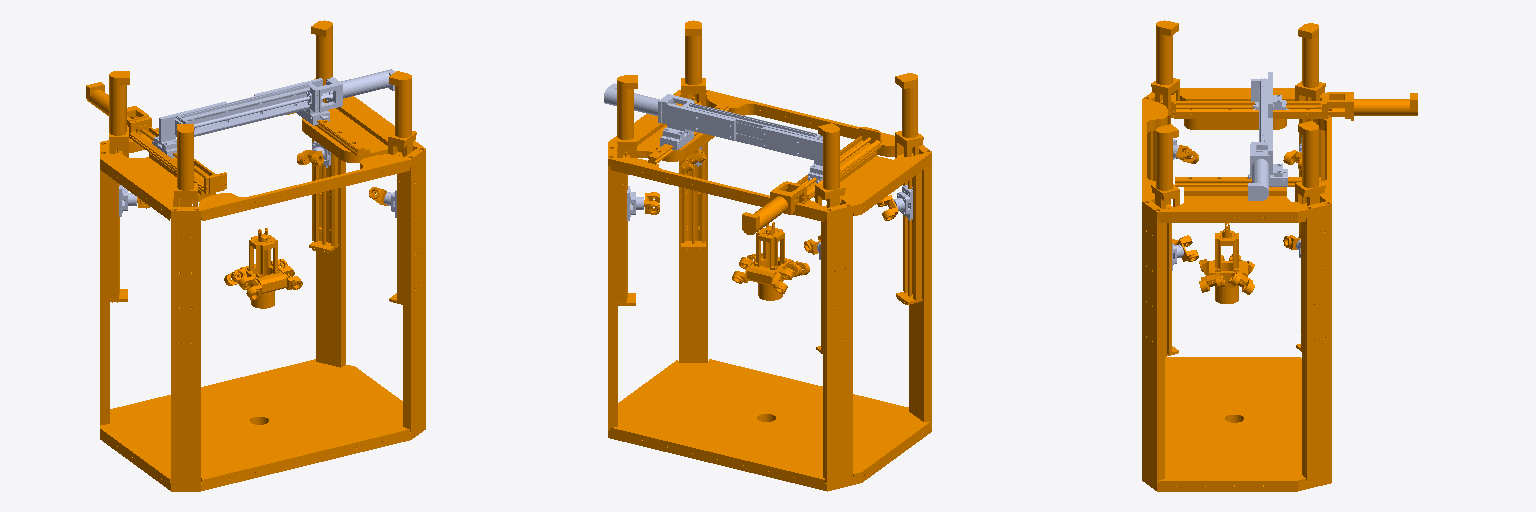
--- Facts derived from the render (not from the file) ---
The picture shows the robot from 3 angles, left to right: view 1: azimuth 30°, elevation 25°; view 2: azimuth 150°, elevation 25°; view 3: azimuth 270°, elevation 25°; orthographic projection.
Robot: Faraday — 28 links, 27 joints (2 fixed, 25 floating); root link world; default pose: all joints at 0.
Visible links, largest first — view 1: base_link, limb5_link1, move_platform; view 2: base_link, limb5_link1, move_platform; view 3: base_link, limb5_link1, move_platform.
Boxes of the visible links, <box> form: base_link: <box>86,20,425,491</box>; limb5_link1: <box>152,69,394,158</box>; move_platform: <box>240,228,286,308</box>; base_link: <box>608,20,931,491</box>; limb5_link1: <box>604,83,822,183</box>; move_platform: <box>747,222,793,300</box>; base_link: <box>1142,20,1417,491</box>; limb5_link1: <box>1248,72,1288,200</box>; move_platform: <box>1206,223,1247,303</box>.
Size in the robot's own frame: 0.6476 by 0.5666 by 0.8006 metres.
15 mesh visuals loaded from 12 distinct referenced files (6 binary STL); not drawn: 12 (reference not matched to a file when rendering).

The robot description file, URDF, robot "Faraday":
<robot
  name="Faraday">

  <link name="world" />

  <joint name="world_to_base_link" type="fixed">
    <parent link="world"/>
    <child link="base_link"/>
    <origin xyz="0 -0.01553 0.604" rpy="3.141592654 0 0"/>
  </joint>

  <link
    name="base_link">
    <inertial>
      <origin
        xyz="-0.0065986 -0.032962 0.49853"
        rpy="0 0 0" />
      <mass
        value="12.551" />
      <inertia
        ixx="5.8372"
        ixy="-0.020361"
        ixz="-0.034318"
        iyy="6.0197"
        iyz="0.0069877"
        izz="0.44893" />
    </inertial>
    <visual>
      <origin
        xyz="0 0 0"
        rpy="0 0 0" />
      <geometry>
        <mesh
          filename="package://faraday_support/meshes/base_link.STL" />
      </geometry>
      <material
        name="">
        <color
          rgba="1 0.6 0 1" />
      </material>
    </visual>
    <collision>
      <origin
        xyz="0 0 0"
        rpy="0 0 0" />
      <geometry>
        <mesh
          filename="package://faraday_support/meshes/base_link.STL" />
      </geometry>
    </collision>
  </link>


  
<!-- !!!!!!!!!!!!!!!!!!!!!!!!!!!!!!!!!!!!the limb1!!!!!!!!!!!!!!!!!!!!!!!!!!! -->
  <joint
    name="limb1_link1_joint"
    type="floating">
    <origin
      xyz="0.257 0.12829 0.087145"
      rpy="0 0 -2.0944" />
    <parent
      link="base_link" />
    <child
      link="limb1_link1" />
    <axis
      xyz="0 0 1" />
    <limit
      lower="-0.0456446"
      upper="0.1758554"
      effort="0"
      velocity="0" />
  </joint>

  <link
    name="limb1_link1">
    <inertial>
      <origin
        xyz="0.0075301 -2.5935E-05 9.6255E-05"
        rpy="0 0 0" />
      <mass
        value="0.047388" />
      <inertia
        ixx="2.2595E-10"
        ixy="-7.5456E-09"
        ixz="2.8004E-08"
        iyy="4.1578E-06"
        iyz="5.676E-11"
        izz="4.1576E-06" />
    </inertial>
    <visual>
      <origin
        xyz="0 0 0"
        rpy="0 0 0" />
      <geometry>
        <mesh
          filename="package://faraday_support/meshes/limb1_link1.STL" />
      </geometry>
      <material
        name="">
        <color
          rgba="0.79216 0.81961 0.93333 1" />
      </material>
    </visual>
    <collision>
      <origin
        xyz="0 0 0"
        rpy="0 0 0" />
      <geometry>
        <mesh
          filename="package://faraday_support/meshes/limb1_link1.STL" />
      </geometry>
    </collision>
  </link>

  <joint
    name="limb1_link2_joint"
    type="floating">
    <origin
      xyz="0.058 0 0"
      rpy="1.5708 -0.67413 1.5708" />
    <parent
      link="limb1_link1" />
    <child
      link="limb1_link2" />
    <axis
      xyz="0 0 1" />
  </joint>

  <link
    name="limb1_link2">
    <inertial>
      <origin
        xyz="5.5511E-17 1.6653E-16 -0.0083909"
        rpy="0 0 0" />
      <mass
        value="0.019958" />
      <inertia
        ixx="1.1484E-06"
        ixy="-6.4586E-21"
        ixz="4.2976E-21"
        iyy="3.054E-06"
        iyz="-4.0935E-21"
        izz="1.9056E-06" />
    </inertial>
    <visual>
      <origin
        xyz="0 0 0"
        rpy="0 0 0" />
      <geometry>
        <mesh
          filename="package://faraday_support/meshes/limb1_link2.STL" />
      </geometry>
      <material
        name="">
        <color
          rgba="1 0.6 0 1" />
      </material>
    </visual>
    <collision>
      <origin
        xyz="0 0 0"
        rpy="0 0 0" />
      <geometry>
        <mesh
          filename="package://faraday_support/meshes/limb1_link2.STL" />
      </geometry>
    </collision>
  </link>

  <joint
    name="limb1_link3_joint"
    type="floating">
    <origin
      xyz="0 0 0"
      rpy="-1.011 1.5812E-17 9.992E-16" />
    <parent
      link="limb1_link2" />
    <child
      link="limb1_link3" />
    <axis
      xyz="1 0 0" />
    <limit
      lower="-1.57"
      upper="1.57"
      effort="0"
      velocity="0" />
  </joint>

  <link
    name="limb1_link3">
    <inertial>
      <origin
        xyz="2.77555756156289E-16 2.35922392732846E-16 0.0897146998141934"
        rpy="0 0 0" />
      <mass
        value="0.016347199026062" />
      <inertia
        ixx="2.68392253477096E-05"
        ixy="-2.11758236813575E-21"
        ixz="-8.30627538597649E-20"
        iyy="2.68392253477097E-05"
        iyz="-7.35838744804189E-20"
        izz="-4.4505542700943E-22" />
    </inertial>
    <visual>
      <origin
        xyz="0 0 0"
        rpy="0 0 0" />
      <geometry>
        <mesh
          filename="package://faraday_support/meshes/limb1_link3.STL" />
      </geometry>
      <material
        name="">
        <color
          rgba="0.807843137254902 0.843137254901961 0.905882352941176 1" />
      </material>
    </visual>
    <collision>
      <origin
        xyz="0 0 0"
        rpy="0 0 0" />
      <geometry>
        <mesh
          filename="package://faraday_support/meshes/limb1_link3.STL" />
      </geometry>
    </collision>
  </link> 

  <joint
    name="limb1_link4_joint"
    type="floating">
    <origin
      xyz="0 0 0.246"
      rpy="-7.7716E-16 4.4409E-16 -1.3715" />
    <parent
      link="limb1_link3" />
    <child
      link="limb1_link4" />
    <axis
      xyz="0 0 -1" />
  </joint>

  <link
    name="limb1_link4">
    <inertial>
      <origin
        xyz="-1.38777878078145E-17 8.32667268468867E-17 -0.0276585619232839"
        rpy="0 0 0" />
      <mass
        value="0.0131531172795061" />
      <inertia
        ixx="3.31385154320057E-06"
        ixy="1.58818677610181E-22"
        ixz="-4.44022992698453E-21"
        iyy="3.31385154320057E-06"
        iyz="9.140715571185E-21"
        izz="-3.19179596330364E-22" />
    </inertial>
    <visual>
      <origin
        xyz="0 0 0"
        rpy="0 0 0" />
      <geometry>
        <mesh
          filename="package://faraday_support/meshes/limb1_link4.STL" />
      </geometry>
      <material
        name="">
        <color
          rgba="0.807843137254902 0.843137254901961 0.905882352941176 1" />
      </material>
    </visual>
    <collision>
      <origin
        xyz="0 0 0"
        rpy="0 0 0" />
      <geometry>
        <mesh
          filename="package://faraday_support/meshes/limb1_link4.STL" />
      </geometry>
    </collision>
  </link>

  <joint
    name="limb1_link5_joint"
    type="floating">
    <origin
      xyz="0 0 0"
      rpy="2.3798 2.7756E-17 -3.1416" />
    <parent
      link="limb1_link4" />
    <child
      link="limb1_link5" />
    <axis
      xyz="1 0 0" />
    <limit
      lower="-1.57"
      upper="1.57"
      effort="0"
      velocity="0" />
  </joint>

  <link
    name="limb1_link5">
    <inertial>
      <origin
        xyz="6.93889390390723E-17 -5.55111512312578E-17 -0.00700691424122217"
        rpy="0 0 0" />
      <mass
        value="0.018552497319415" />
      <inertia
        ixx="6.59042502132004E-07"
        ixy="-6.3395122146064E-21"
        ixz="-1.0311752680138E-20"
        iyy="2.56461890947715E-06"
        iyz="-2.04860999346998E-21"
        izz="1.90557640734514E-06" />
    </inertial>
    <visual>
      <origin
        xyz="0 0 0"
        rpy="0 0 0" />
      <geometry>
        <mesh
          filename="package://faraday_support/meshes/limb1_link5.STL" />
      </geometry>
      <material
        name="">
        <color
          rgba="1 0.6 0 1" />
      </material>
    </visual>
    <collision>
      <origin
        xyz="0 0 0"
        rpy="0 0 0" />
      <geometry>
        <mesh
          filename="package://faraday_support/meshes/limb1_link5.STL" />
      </geometry>
    </collision>
  </link>

<!-- !!!!!!!!!!!!!!!!!!!!!!!!limb2!!!!!!!!!!!!!!!!!!!!!!!! -->
  <joint
    name="limb2_link1_joint"
    type="floating">
    <origin
      xyz="0.24382 -0.17253 0.085659"
      rpy="0 0 2.618" />
    <parent
      link="base_link" />
    <child
      link="limb2_link1" />
    <axis
      xyz="0 0 1" />
    <limit
      lower="-0.0456446"
      upper="0.1758554"
      effort="0"
      velocity="0" />
  </joint>

  <link
    name="limb2_link1">
    <inertial>
      <origin
        xyz="0.0075301 -2.5935E-05 9.6255E-05"
        rpy="0 0 0" />
      <mass
        value="0.047388" />
      <inertia
        ixx="2.2595E-10"
        ixy="-7.5456E-09"
        ixz="2.8004E-08"
        iyy="4.1578E-06"
        iyz="5.676E-11"
        izz="4.1576E-06" />
    </inertial>
    <visual>
      <origin
        xyz="0 0 0"
        rpy="0 0 0" />
      <geometry>
        <mesh
          filename="package://faraday_support/meshes/limb1_link1.STL" />
      </geometry>
      <material
        name="">
        <color
          rgba="0.79216 0.81961 0.93333 1" />
      </material>
    </visual>
    <collision>
      <origin
        xyz="0 0 0"
        rpy="0 0 0" />
      <geometry>
        <mesh
          filename="package://faraday_support/meshes/limb1_link1.STL" />
      </geometry>
    </collision>
  </link>

  <joint
    name="limb2_link2_joint"
    type="floating">
    <origin
      xyz="0.058 0 0"
      rpy="1.5708 -0.16001 1.5708" />
    <parent
      link="limb2_link1" />
    <child
      link="limb2_link2" />
    <axis
      xyz="0 0 1" />
  </joint>

  <link
    name="limb2_link2">
    <inertial>
      <origin
        xyz="-2.7756E-17 -1.1102E-16 -0.0083909"
        rpy="0 0 0" />
      <mass
        value="0.019958" />
      <inertia
        ixx="1.1484E-06"
        ixy="-1.8264E-21"
        ixz="1.0295E-20"
        iyy="3.054E-06"
        iyz="1.9768E-20"
        izz="1.9056E-06" />
    </inertial>
    <visual>
      <origin
        xyz="0 0 0"
        rpy="0 0 0" />
      <geometry>
        <mesh
          filename="package://faraday_support/meshes/limb1_link2.STL" />
      </geometry>
      <material
        name="">
        <color
          rgba="1 0.6 0 1" />
      </material>
    </visual>
    <collision>
      <origin
        xyz="0 0 0"
        rpy="0 0 0" />
      <geometry>
        <mesh
          filename="package://faraday_support/meshes/limb1_link2.STL" />
      </geometry>
    </collision>
  </link>

  <joint
    name="limb2_link3_joint"
    type="floating">
    <origin
      xyz="0 0 0"
      rpy="-0.74327 -1.4303E-15 1.9429E-16" />
    <parent
      link="limb2_link2" />
    <child
      link="limb2_link3" />
    <axis
      xyz="1 0 0" />
    <limit
      lower="-1.57"
      upper="1.57"
      effort="0"
      velocity="0" />
  </joint>

  <link
    name="limb2_link3">
    <inertial>
      <origin
        xyz="-4.1633E-17 -2.7756E-17 0.089715"
        rpy="0 0 0" />
      <mass
        value="0.016347" />
      <inertia
        ixx="2.6839E-05"
        ixy="1.9058E-21"
        ixz="-6.3969E-21"
        iyy="2.6839E-05"
        iyz="4.9053E-22"
        izz="3.6776E-22" />
    </inertial>
    <visual>
      <origin
        xyz="0 0 0"
        rpy="0 0 0" />
      <geometry>
        <mesh
          filename="package://faraday_support/meshes/limb1_link3.STL" />
      </geometry>
      <material
        name="">
        <color
          rgba="0.80784 0.84314 0.90588 1" />
      </material>
    </visual>
    <collision>
      <origin
        xyz="0 0 0"
        rpy="0 0 0" />
      <geometry>
        <mesh
          filename="package://faraday_support/meshes/limb1_link3.STL" />
      </geometry>
    </collision>
  </link>

  <joint
    name="limb2_link4_joint"
    type="floating">
    <origin
      xyz="0 0 0.246"
      rpy="1.1102E-16 0 0.65345" />
    <parent
      link="limb2_link3" />
    <child
      link="limb2_link4" />
    <axis
      xyz="0 0 -1" />
  </joint>

  <link
    name="limb2_link4">
    <inertial>
      <origin
        xyz="1.1102E-16 1.6653E-16 -0.027659"
        rpy="0 0 0" />
      <mass
        value="0.013153" />
      <inertia
        ixx="3.3139E-06"
        ixy="2.1176E-22"
        ixz="2.5636E-21"
        iyy="3.3139E-06"
        iyz="8.9947E-21"
        izz="1.3639E-22" />
    </inertial>
    <visual>
      <origin
        xyz="0 0 0"
        rpy="0 0 0" />
      <geometry>
        <mesh
          filename="package://faraday_support/meshes/limb1_link4.STL" />
      </geometry>
      <material
        name="">
        <color
          rgba="0.80784 0.84314 0.90588 1" />
      </material>
    </visual>
    <collision>
      <origin
        xyz="0 0 0"
        rpy="0 0 0" />
      <geometry>
        <mesh
          filename="package://faraday_support/meshes/limb1_link4.STL" />
      </geometry>
    </collision>
  </link>

  <joint
    name="limb2_link5_joint"
    type="floating">
    <origin
      xyz="0 0 0"
      rpy="2.1941 1.1102E-16 3.1416" />
    <parent
      link="limb2_link4" />
    <child
      link="limb2_link5" />
    <axis
      xyz="1 0 0" />
    <limit
      lower="-1.57"
      upper="1.57"
      effort="0"
      velocity="0" />
  </joint>

  <link
    name="limb2_link5">
    <inertial>
      <origin
        xyz="-5.5511E-17 5.5511E-17 -0.0070069"
        rpy="0 0 0" />
      <mass
        value="0.018552" />
      <inertia
        ixx="6.5904E-07"
        ixy="-7.0674E-21"
        ixz="3.2064E-21"
        iyy="2.5646E-06"
        iyz="-2.7338E-22"
        izz="1.9056E-06" />
    </inertial>
    <visual>
      <origin
        xyz="0 0 0"
        rpy="0 0 0" />
      <geometry>
        <mesh
          filename="package://faraday_support/meshes/limb1_link5.STL" />
      </geometry>
      <material
        name="">
        <color
          rgba="1 0.6 0 1" />
      </material>
    </visual>
    <collision>
      <origin
        xyz="0 0 0"
        rpy="0 0 0" />
      <geometry>
        <mesh
          filename="package://faraday_support/meshes/limb1_link5.STL" />
      </geometry>
    </collision>
  </link>

<!-- !!!!!!!!!!!!!!!!!!!!!!!!!!!limb3!!!!!!!!!!!!!!!!!!!!!!!!!!!!!! -->
  <joint
    name="limb3_link1_joint"
    type="floating">
    <origin
      xyz="-0.24382 -0.17253 0.085659"
      rpy="0 0 0.5236" />
    <parent
      link="base_link" />
    <child
      link="limb3_link1" />
    <axis
      xyz="0 0 1" />
    <limit
      lower="-0.0456446"
      upper="0.1758554"
      effort="0"
      velocity="0" />
  </joint>

  <link
    name="limb3_link1">
    <inertial>
      <origin
        xyz="0.0075301 -2.5935E-05 9.6255E-05"
        rpy="0 0 0" />
      <mass
        value="0.047388" />
      <inertia
        ixx="2.2595E-10"
        ixy="-7.5456E-09"
        ixz="2.8004E-08"
        iyy="4.1578E-06"
        iyz="5.676E-11"
        izz="4.1576E-06" />
    </inertial>
    <visual>
      <origin
        xyz="0 0 0"
        rpy="0 0 0" />
      <geometry>
        <mesh
          filename="package://faraday_support/meshes/limb1_link1.STL" />
      </geometry>
      <material
        name="">
        <color
          rgba="0.79216 0.81961 0.93333 1" />
      </material>
    </visual>
    <collision>
      <origin
        xyz="0 0 0"
        rpy="0 0 0" />
      <geometry>
        <mesh
          filename="package://faraday_support/meshes/limb1_link1.STL" />
      </geometry>
    </collision>
  </link>

  <joint
    name="limb3_link2_joint"
    type="floating">
    <origin
      xyz="0.058 0 0"
      rpy="-1.5708 -0.16001 -1.5708" />
    <parent
      link="limb3_link1" />
    <child
      link="limb3_link2" />
    <axis
      xyz="0 0 1" />
  </joint>

  <link
    name="limb3_link2">
    <inertial>
      <origin
        xyz="-6.93889390390723E-17 1.11022302462516E-16 -0.00839086892245161"
        rpy="0 0 0" />
      <mass
        value="0.0199578720378376" />
      <inertia
        ixx="1.14844209154471E-06"
        ixy="8.470329472543E-22"
        ixz="-1.05173886515005E-20"
        iyy="3.05401387558816E-06"
        iyz="-1.06218584596003E-20"
        izz="1.90557178404344E-06" />
    </inertial>
    <visual>
      <origin
        xyz="0 0 0"
        rpy="0 0 0" />
      <geometry>
        <mesh
          filename="package://faraday_support/meshes/limb1_link2.STL" />
      </geometry>
      <material
        name="">
        <color
          rgba="1 0.6 0 1" />
      </material>
    </visual>
    <collision>
      <origin
        xyz="0 0 0"
        rpy="0 0 0" />
      <geometry>
        <mesh
          filename="package://faraday_support/meshes/limb1_link2.STL" />
      </geometry>
    </collision>
  </link> 

  <joint
    name="limb3_link3_joint"
    type="floating">
    <origin
      xyz="0 0 0"
      rpy="0.74327 -9.4524E-16 2.7756E-17" />
    <parent
      link="limb3_link2" />
    <child
      link="limb3_link3" />
    <axis
      xyz="1 0 0" />
    <limit
      lower="-1.57"
      upper="1.57"
      effort="0"
      velocity="0" />
  </joint>

  <link
    name="limb3_link3">
    <inertial>
      <origin
        xyz="1.38777878078145E-17 3.05311331771918E-16 0.089714699814193"
        rpy="0 0 0" />
      <mass
        value="0.016347199026062" />
      <inertia
        ixx="2.68392253477092E-05"
        ixy="2.11758236813575E-22"
        ixz="1.75230454692168E-20"
        iyy="2.68392253477093E-05"
        iyz="-8.52485903055817E-20"
        izz="-1.10052642813122E-21" />
    </inertial>
    <visual>
      <origin
        xyz="0 0 0"
        rpy="0 0 0" />
      <geometry>
        <mesh
          filename="package://faraday_support/meshes/limb1_link3.STL" />
      </geometry>
      <material
        name="">
        <color
          rgba="0.807843137254902 0.843137254901961 0.905882352941176 1" />
      </material>
    </visual>
    <collision>
      <origin
        xyz="0 0 0"
        rpy="0 0 0" />
      <geometry>
        <mesh
          filename="package://faraday_support/meshes/limb1_link3.STL" />
      </geometry>
    </collision>
  </link>  

  <joint
    name="limb3_link4_joint"
    type="floating">
    <origin
      xyz="0 0 0.246"
      rpy="-5.5511E-16 -6.1062E-16 -0.65345" />
    <parent
      link="limb3_link3" />
    <child
      link="limb3_link4" />
    <axis
      xyz="0 0 -1" />
  </joint>

  <link
    name="limb3_link4">
    <inertial>
      <origin
        xyz="0 1.11022302462516E-16 -0.0276585619232839"
        rpy="0 0 0" />
      <mass
        value="0.0131531172795061" />
      <inertia
        ixx="3.31385154320058E-06"
        ixy="-5.29395592033938E-23"
        ixz="5.36012261397134E-21"
        iyy="3.31385154320058E-06"
        iyz="3.98758687392377E-21"
        izz="1.26051438492093E-22" />
    </inertial>
    <visual>
      <origin
        xyz="0 0 0"
        rpy="0 0 0" />
      <geometry>
        <mesh
          filename="package://faraday_support/meshes/limb1_link4.STL" />
      </geometry>
      <material
        name="">
        <color
          rgba="0.807843137254902 0.843137254901961 0.905882352941176 1" />
      </material>
    </visual>
    <collision>
      <origin
        xyz="0 0 0"
        rpy="0 0 0" />
      <geometry>
        <mesh
          filename="package://faraday_support/meshes/limb1_link4.STL" />
      </geometry>
    </collision>
  </link> 

  <joint
    name="limb3_link5_joint"
    type="floating">
    <origin
      xyz="0 0 0"
      rpy="2.1941 4.4409E-16 1.1102E-16" />
    <parent
      link="limb3_link4" />
    <child
      link="limb3_link5" />
    <axis
      xyz="1 0 0" />
    <limit
      lower="-1.57"
      upper="1.57"
      effort="0"
      velocity="0" />
  </joint>

  <link
    name="limb3_link5">
    <inertial>
      <origin
        xyz="2.77555756156289E-17 0 -0.00700691424122217"
        rpy="0 0 0" />
      <mass
        value="0.018552497319415" />
      <inertia
        ixx="6.59042502132005E-07"
        ixy="9.84675801183124E-21"
        ixz="-6.55681444840788E-22"
        iyy="2.56461890947713E-06"
        iyz="5.15003833969146E-21"
        izz="1.90557640734513E-06" />
    </inertial>
    <visual>
      <origin
        xyz="0 0 0"
        rpy="0 0 0" />
      <geometry>
        <mesh
          filename="package://faraday_support/meshes/limb1_link5.STL" />
      </geometry>
      <material
        name="">
        <color
          rgba="1 0.6 0 1" />
      </material>
    </visual>
    <collision>
      <origin
        xyz="0 0 0"
        rpy="0 0 0" />
      <geometry>
        <mesh
          filename="package://faraday_support/meshes/limb1_link5.STL" />
      </geometry>
    </collision>
  </link>


<!-- !!!!!!!!!!!!!!!!!!!!!!!!limb4!!!!!!!!!!!!!!!!!!!!!!!!!!!!!!!!!!!!!!!! -->
  <joint
    name="limb4_link1_joint"
    type="floating">
    <origin
      xyz="-0.257 0.12829 0.087145"
      rpy="0 0 -1.0472" />
    <parent
      link="base_link" />
    <child
      link="limb4_link1" />
    <axis
      xyz="0 0 1" />
    <limit
      lower="-0.0456446"
      upper="0.1758554"
      effort="0"
      velocity="0" />
  </joint>

  <link
    name="limb4_link1">
    <inertial>
      <origin
        xyz="0.0075301 -2.5935E-05 9.6255E-05"
        rpy="0 0 0" />
      <mass
        value="0.047388" />
      <inertia
        ixx="2.2595E-10"
        ixy="-7.5456E-09"
        ixz="2.8004E-08"
        iyy="4.1578E-06"
        iyz="5.676E-11"
        izz="4.1576E-06" />
    </inertial>
    <visual>
      <origin
        xyz="0 0 0"
        rpy="0 0 0" />
      <geometry>
        <mesh
          filename="package://faraday_support/meshes/limb1_link1.STL" />
      </geometry>
      <material
        name="">
        <color
          rgba="0.79216 0.81961 0.93333 1" />
      </material>
    </visual>
    <collision>
      <origin
        xyz="0 0 0"
        rpy="0 0 0" />
      <geometry>
        <mesh
          filename="package://faraday_support/meshes/limb1_link1.STL" />
      </geometry>
    </collision>
  </link>

  <joint
    name="limb4_link2_joint"
    type="floating">
    <origin
      xyz="0.058 0 0"
      rpy="1.5708 0.67413 1.5708" />
    <parent
      link="limb4_link1" />
    <child
      link="limb4_link2" />
    <axis
      xyz="0 0 1" />
  </joint>

  <link
    name="limb4_link2">
    <inertial>
      <origin
        xyz="5.55111512312578E-17 0 -0.00839086892245156"
        rpy="0 0 0" />
      <mass
        value="0.0199578720378376" />
      <inertia
        ixx="1.14844209154472E-06"
        ixy="-1.25466755312043E-20"
        ixz="-1.1968400761243E-20"
        iyy="3.05401387558811E-06"
        iyz="-1.615784365359E-20"
        izz="1.90557178404339E-06" />
    </inertial>
    <visual>
      <origin
        xyz="0 0 0"
        rpy="0 0 0" />
      <geometry>
        <mesh
          filename="package://faraday_support/meshes/limb1_link2.STL" />
      </geometry>
      <material
        name="">
        <color
          rgba="1 0.6 0 1" />
      </material>
    </visual>
    <collision>
      <origin
        xyz="0 0 0"
        rpy="0 0 0" />
      <geometry>
        <mesh
          filename="package://faraday_support/meshes/limb1_link2.STL" />
      </geometry>
    </collision>
  </link>

  <joint
    name="limb4_link3_joint"
    type="floating">
    <origin
      xyz="0 0 0"
      rpy="1.011 -6.6972E-16 -3.1416" />
    <parent
      link="limb4_link2" />
    <child
      link="limb4_link3" />
    <axis
      xyz="1 0 0" />
    <limit
      lower="-1.57"
      upper="1.57"
      effort="0"
      velocity="0" />
  </joint>

  <link
    name="limb4_link3">
    <inertial>
      <origin
        xyz="5.55111512312578E-17 6.93889390390723E-17 0.0897146998141931"
        rpy="0 0 0" />
      <mass
        value="0.016347199026062" />
      <inertia
        ixx="2.68392253477093E-05"
        ixy="1.6940658945086E-21"
        ixz="-1.72551011895521E-20"
        iyy="2.68392253477093E-05"
        iyz="-1.61446506639883E-20"
        izz="2.26137980814788E-21" />
    </inertial>
    <visual>
      <origin
        xyz="0 0 0"
        rpy="0 0 0" />
      <geometry>
        <mesh
          filename="package://faraday_support/meshes/limb1_link3.STL" />
      </geometry>
      <material
        name="">
        <color
          rgba="0.807843137254902 0.843137254901961 0.905882352941176 1" />
      </material>
    </visual>
    <collision>
      <origin
        xyz="0 0 0"
        rpy="0 0 0" />
      <geometry>
        <mesh
          filename="package://faraday_support/meshes/limb1_link3.STL" />
      </geometry>
    </collision>
  </link>

  <joint
    name="limb4_link4_joint"
    type="floating">
    <origin
      xyz="0 0 0.246"
      rpy="-2.2204E-16 -1.3878E-16 1.3715" />
    <parent
      link="limb4_link3" />
    <child
      link="limb4_link4" />
    <axis
      xyz="0 0 -1" />
  </joint>

  <link
    name="limb4_link4">
    <inertial>
      <origin
        xyz="-4.85722573273506E-17 2.4980018054066E-16 -0.0276585619232836"
        rpy="0 0 0" />
      <mass
        value="0.0131531172795061" />
      <inertia
        ixx="3.31385154320052E-06"
        ixy="3.17637355220363E-22"
        ixz="-7.18871507894477E-21"
        iyy="3.31385154320052E-06"
        iyz="2.43805815429429E-20"
        izz="1.27879491686309E-22" />
    </inertial>
    <visual>
      <origin
        xyz="0 0 0"
        rpy="0 0 0" />
      <geometry>
        <mesh
          filename="package://faraday_support/meshes/limb1_link4.STL" />
      </geometry>
      <material
        name="">
        <color
          rgba="0.807843137254902 0.843137254901961 0.905882352941176 1" />
      </material>
    </visual>
    <collision>
      <origin
        xyz="0 0 0"
        rpy="0 0 0" />
      <geometry>
        <mesh
          filename="package://faraday_support/meshes/limb1_link4.STL" />
      </geometry>
    </collision>
  </link>

  <joint
    name="limb4_link5_joint"
    type="floating">
    <origin
      xyz="0 0 0"
      rpy="2.3798 3.3307E-16 3.6082E-16" />
    <parent
      link="limb4_link4" />
    <child
      link="limb4_link5" />
    <axis
      xyz="1 0 0" />
    <limit
      lower="-1.57"
      upper="1.57"
      effort="0"
      velocity="0" />
  </joint>

  <link
    name="limb4_link5">
    <inertial>
      <origin
        xyz="2.08166817117217E-17 5.55111512312578E-17 -0.00700691424122215"
        rpy="0 0 0" />
      <mass
        value="0.018552497319415" />
      <inertia
        ixx="6.59042502132005E-07"
        ixy="-2.23669637634339E-21"
        ixz="-2.81818723405482E-21"
        iyy="2.56461890947715E-06"
        iyz="-2.11774349367621E-21"
        izz="1.90557640734514E-06" />
    </inertial>
    <visual>
      <origin
        xyz="0 0 0"
        rpy="0 0 0" />
      <geometry>
        <mesh
          filename="package://faraday_support/meshes/limb1_link5.STL" />
      </geometry>
      <material
        name="">
        <color
          rgba="1 0.6 0 1" />
      </material>
    </visual>
    <collision>
      <origin
        xyz="0 0 0"
        rpy="0 0 0" />
      <geometry>
        <mesh
          filename="package://faraday_support/meshes/limb1_link5.STL" />
      </geometry>
    </collision>
  </link>
  
  <!-- !!!!!!!!!!!!!!!!!!!!!!!!limb5!!!!!!!!!!!!!!!!!!!!!!!!!!! -->
  <joint
    name="limb5_link1_joint"
    type="floating">
    <origin
      xyz="-0.175 -0.09 -0.046"
      rpy="-1.5708 1.5708 0" />
    <parent
      link="base_link" />
    <child
      link="limb5_link1" />
    <axis
      xyz="0 0 1" />
    <limit
      lower="-0.1"
      upper="0.2"
      effort="0"
      velocity="0" />
  </joint>

  <link
    name="limb5_link1">
    <inertial>
      <origin
        xyz="0.040673 -0.25629 0.011002"
        rpy="0 0 0" />
      <mass
        value="0.62178" />
      <inertia
        ixx="0.012402"
        ixy="0.00021337"
        ixz="-4.7882E-05"
        iyy="0.00020158"
        iyz="0.00044055"
        izz="0.012493" />
    </inertial>
    <visual>
      <origin
        xyz="0 0 0"
        rpy="0 0 0" />
      <geometry>
        <mesh
          filename="package://faraday_support/meshes/limb5_link1.STL" />
      </geometry>
      <material
        name="">
        <color
          rgba="0.79216 0.81961 0.93333 1" />
      </material>
    </visual>
    <collision>
      <origin
        xyz="0 0 0"
        rpy="0 0 0" />
      <geometry>
        <mesh
          filename="package://faraday_support/meshes/limb5_link1.STL" />
      </geometry>
    </collision>
  </link>

  <joint
    name="limb5_link2_joint"
    type="floating">
    <origin
      xyz="0.0475 -0.175 0.021"
      rpy="-1.5708 -1.5708 0" />
    <parent
      link="limb5_link1" />
    <child
      link="limb5_link2" />
    <axis
      xyz="0 0 -1" />
    <limit
      lower="-0.2"
      upper="0.2"
      effort="0"
      velocity="0" />
  </joint>

  <link
    name="limb5_link2">
    <inertial>
      <origin
        xyz="0.02986 0.078211 0.00036186"
        rpy="0 0 0" />
      <mass
        value="0.43004" />
      <inertia
        ixx="0.0055683"
        ixy="-0.00022117"
        ixz="-1.1114E-07"
        iyy="4.0186E-05"
        iyz="1.3165E-05"
        izz="0.0056084" />
    </inertial>
    <visual>
      <origin
        xyz="0 0 0"
        rpy="0 0 0" />
      <geometry>
        <mesh
          filename="package://faraday_support/meshes/limb5_link2.STL" />
      </geometry>
      <material
        name="">
        <color
          rgba="0.79216 0.81961 0.93333 1" />
      </material>
    </visual>
    <collision>
      <origin
        xyz="0 0 0"
        rpy="0 0 0" />
      <geometry>
        <mesh
          filename="package://faraday_support/meshes/limb5_link2.STL" />
      </geometry>
    </collision>
  </link>

  <joint
    name="limb5_link3_joint"
    type="floating">
    <origin
      xyz="0.036 0.0275 0"
      rpy="1.5708 -6.123E-17 -6.123E-17" />
    <parent
      link="limb5_link2" />
    <child
      link="limb5_link3" />
    <axis
      xyz="0 0 1" />
    <limit
      lower="-0.1"
      upper="0.2"
      effort="0"
      velocity="0" />
  </joint>

  <link
    name="limb5_link3">
    <inertial>
      <origin
        xyz="0.018715 -1.4818E-05 0.059212"
        rpy="0 0 0" />
      <mass
        value="0.082907" />
      <inertia
        ixx="0.00041071"
        ixy="-2.1293E-08"
        ixz="-6.9984E-05"
        iyy="0.00042791"
        iyz="-7.2601E-08"
        izz="1.7208E-05" />
    </inertial>
    <visual>
      <origin
        xyz="0 0 0"
        rpy="0 0 0" />
      <geometry>
        <mesh
          filename="package://faraday_support/meshes/limb5_link3.STL" />
      </geometry>
      <material
        name="">
        <color
          rgba="0.79216 0.81961 0.93333 1" />
      </material>
    </visual>
    <collision>
      <origin
        xyz="0 0 0"
        rpy="0 0 0" />
      <geometry>
        <mesh
          filename="package://faraday_support/meshes/limb5_link3.STL" />
      </geometry>
    </collision>
  </link>
  
  <joint
    name="limb5_link4_joint"
    type="floating">
    <origin
      xyz="0.033 0 0.265"
      rpy="1.5708 0 -6.123E-17" />
    <parent
      link="limb5_link3" />
    <child
      link="limb5_link4" />
    <axis
      xyz="1 0 0" />
    <limit
      lower="-1.57"
      upper="1.57"
      effort="0"
      velocity="0" />
  </joint>

  <link
    name="limb5_link4">
    <inertial>
      <origin
        xyz="0 5.5511E-17 7.284E-20"
        rpy="0 0 0" />
      <mass
        value="0.0021804" />
      <inertia
        ixx="0"
        ixy="0"
        ixz="0"
        iyy="0"
        iyz="0"
        izz="0" />
    </inertial>
    <visual>
      <origin
        xyz="0 0 0"
        rpy="0 0 0" />
      <geometry>
        <mesh
          filename="package://faraday_support/meshes/limb5_link4.STL" />
      </geometry>
      <material
        name="">
        <color
          rgba="0.80784 0.84314 0.90588 1" />
      </material>
    </visual>
    <collision>
      <origin
        xyz="0 0 0"
        rpy="0 0 0" />
      <geometry>
        <mesh
          filename="package://faraday_support/meshes/limb5_link4.STL" />
      </geometry>
    </collision>
  </link>


<!-- !!!!!!!!!!!!!!!!!!!!moveing platform!!!!!!!!!!!!!!!!!!!! -->
  <joint
    name="move_platform_joint"
    type="floating">
    <origin
      xyz="0 0 0.25"
      rpy="0 0 0" />
    <parent
      link="base_link" />
    <child
      link="move_platform" />
    <axis
      xyz="0 0 -1" />
  </joint>

  <link
    name="move_platform">
    <inertial>
      <origin
        xyz="1.12952778800589E-09 -1.29548002418198E-06 -0.00824448833449409"
        rpy="0 0 0" />
      <mass
        value="0.162097676027693" />
      <inertia
        ixx="0.000211525598211022"
        ixy="-2.35543345488949E-16"
        ixz="1.57894931553872E-11"
        iyy="0.000210624065261381"
        iyz="1.73208729873884E-09"
        izz="8.89160350199101E-06" />
    </inertial>
    <visual>
      <origin
        xyz="0 0 0"
        rpy="0 0 0" />
      <geometry>
        <mesh
          filename="package://faraday_support/meshes/move_platform.STL" />
      </geometry>
      <material
        name="">
        <color
          rgba="1 0.6 0 1" />
      </material>
    </visual>
    <collision>
      <origin
        xyz="0 0 0"
        rpy="0 0 0" />
      <geometry>
        <mesh
          filename="package://faraday_support/meshes/move_platform.STL" />
      </geometry>
    </collision>
  </link>

  <joint
    name="motor_spindle_joint"
    type="fixed">
    <origin
      xyz="0 0 0.092"
      rpy="0 0 1.1838E-15" />
    <parent
      link="move_platform" />
    <child
      link="motor_spindle" />
    <axis
      xyz="0 0 -1" />
  </joint>

  <link
    name="motor_spindle">
    <inertial>
      <origin
        xyz="-4.27125461478565E-19 5.20417042793042E-18 -0.0783416005168426"
        rpy="0 0 0" />
      <mass
        value="0.132375566305138" />
      <inertia
        ixx="0"
        ixy="0"
        ixz="0"
        iyy="0"
        iyz="0"
        izz="0" />
    </inertial>
    <visual>
      <origin
        xyz="0 0 0"
        rpy="0 0 0" />
      <geometry>
        <mesh
          filename="package://faraday_support/meshes/motor_spindle.STL" />
      </geometry>
      <material
        name="">
        <color
          rgba="0 0.6 0 1" />
      </material>
    </visual>
    <collision>
      <origin
        xyz="0 0 0"
        rpy="0 0 0" />
      <geometry>
        <mesh
          filename="package://faraday_support/meshes/motor_spindle.STL" />
      </geometry>
    </collision>
  </link>


</robot>
